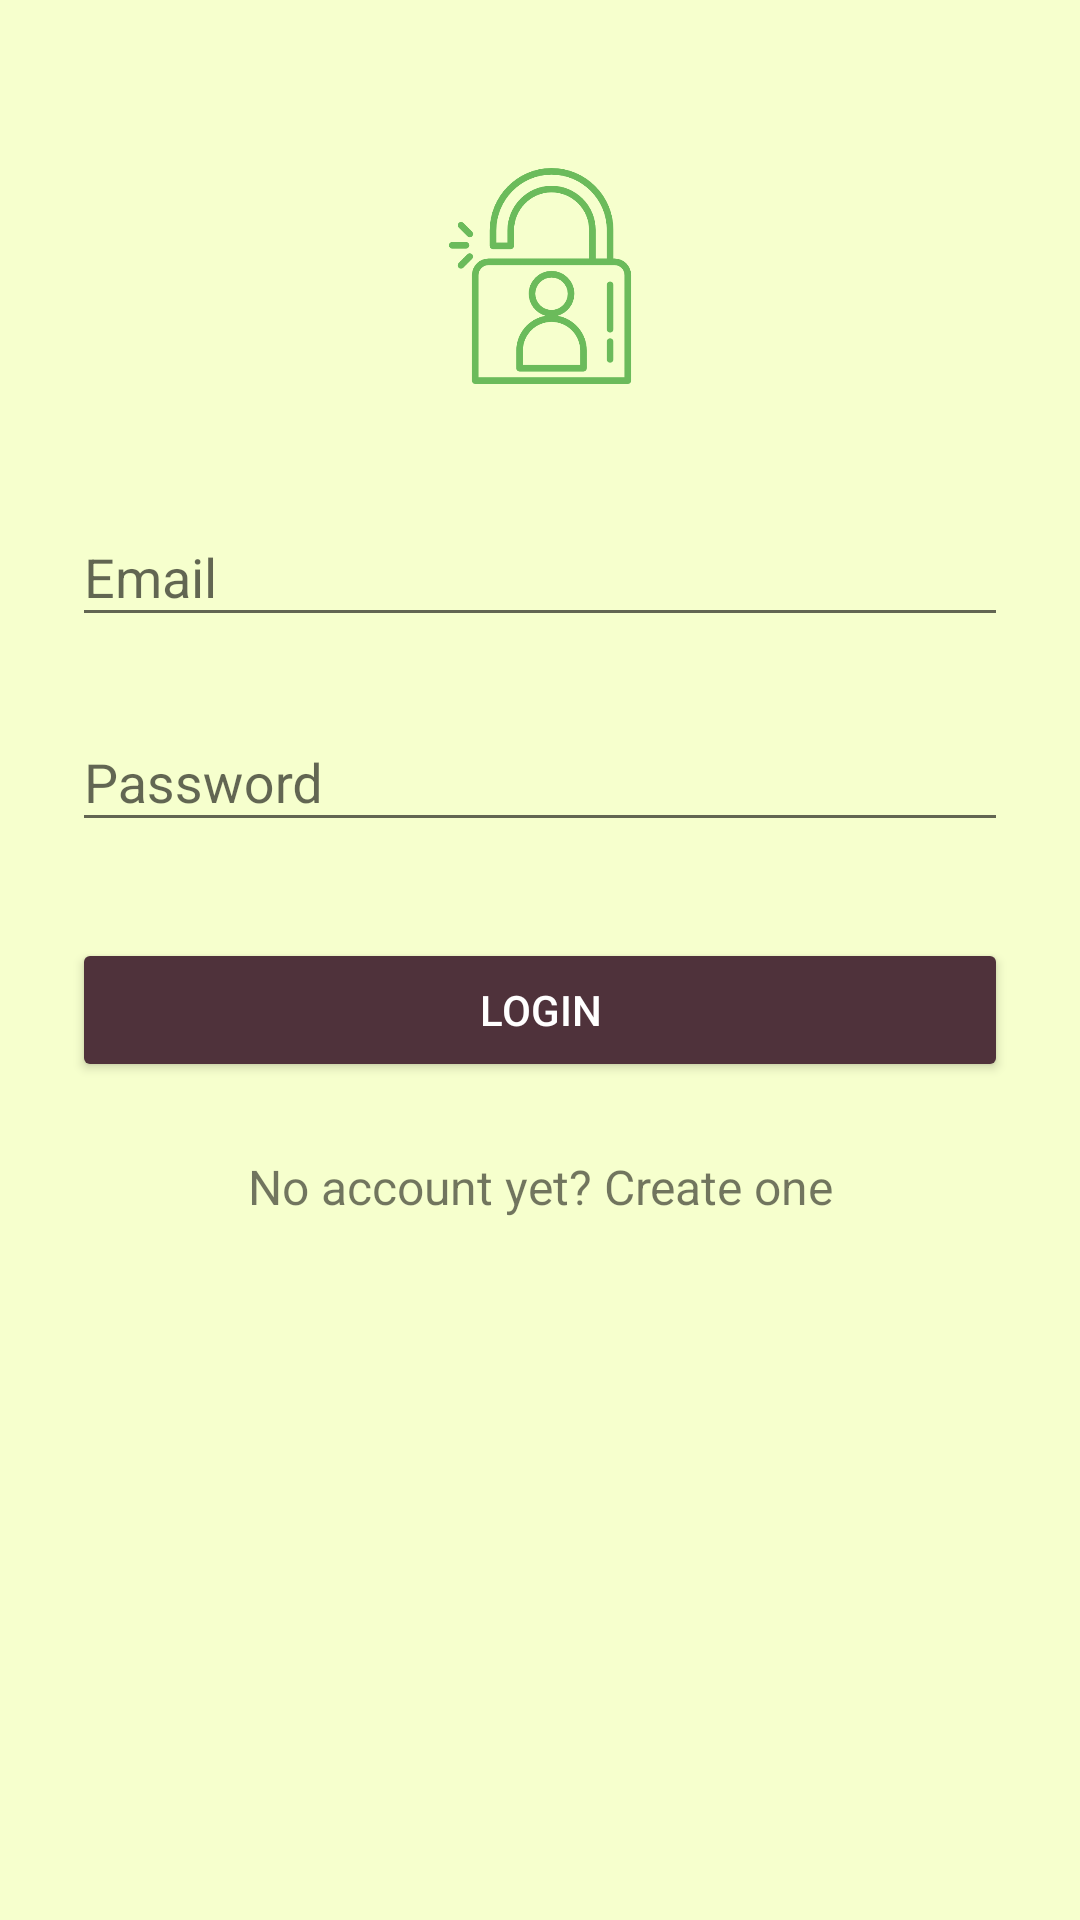

Icon click points for this 1080w x 1920h phone screenshot, format (x=x, y=y):
login: (x=540, y=276)
